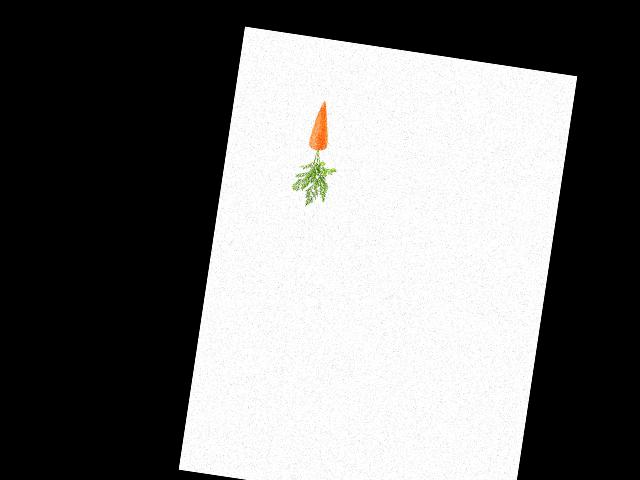carrot: (303, 98, 339, 154)
